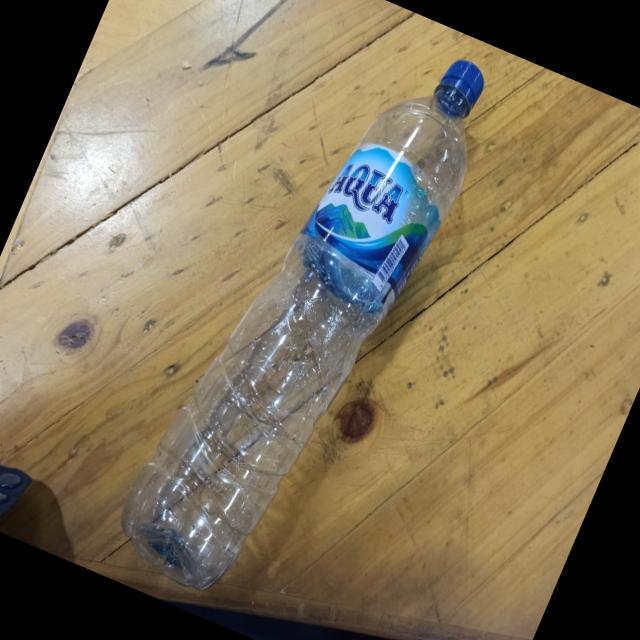BotolPlastik: (102, 2, 509, 624)
